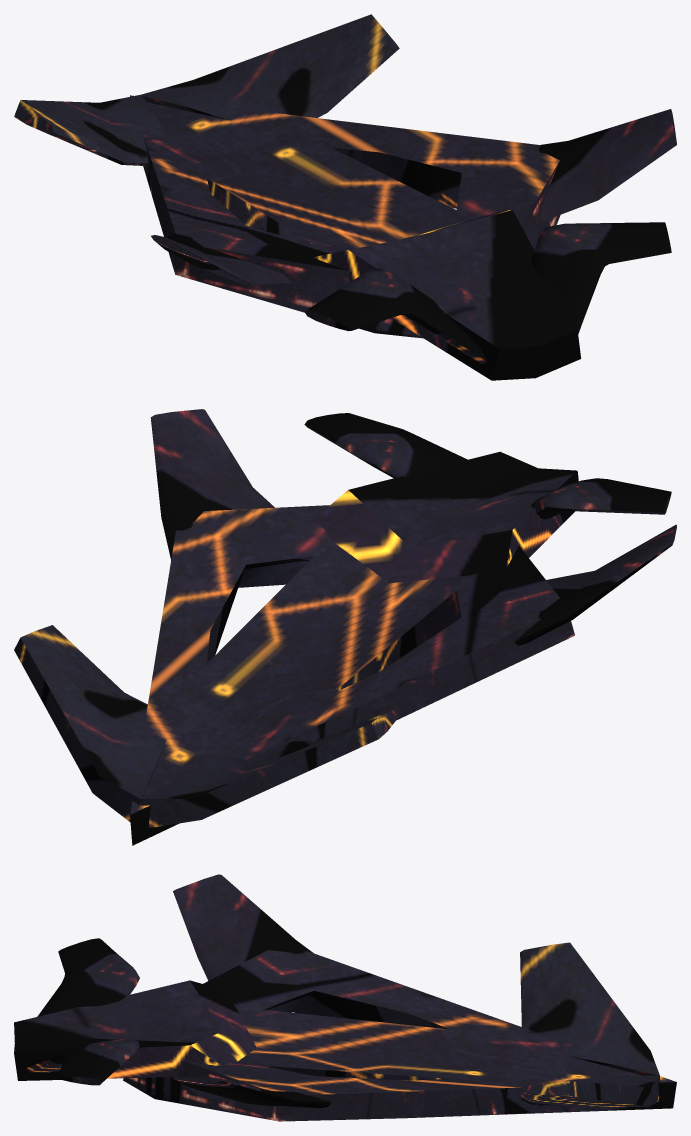
The model's file is ship16e.fbx.
3 views of the same model, one above another, from view 1: azimuth 30°, elevation 25°; view 2: azimuth 150°, elevation 25°; view 3: azimuth 270°, elevation 25° (orthographic). The views are drawn at different scales.
Visible parts, largest first — view 1: PipelineFBX; view 2: PipelineFBX; view 3: PipelineFBX.
Part boxes in pixels (bbox=[...]): PipelineFBX: bbox=[14, 14, 676, 380]; PipelineFBX: bbox=[14, 409, 676, 845]; PipelineFBX: bbox=[14, 874, 676, 1121].
Bounding box in the file's own units: 363 × 111 × 494.
Materials: 1 (1 with a texture image).
